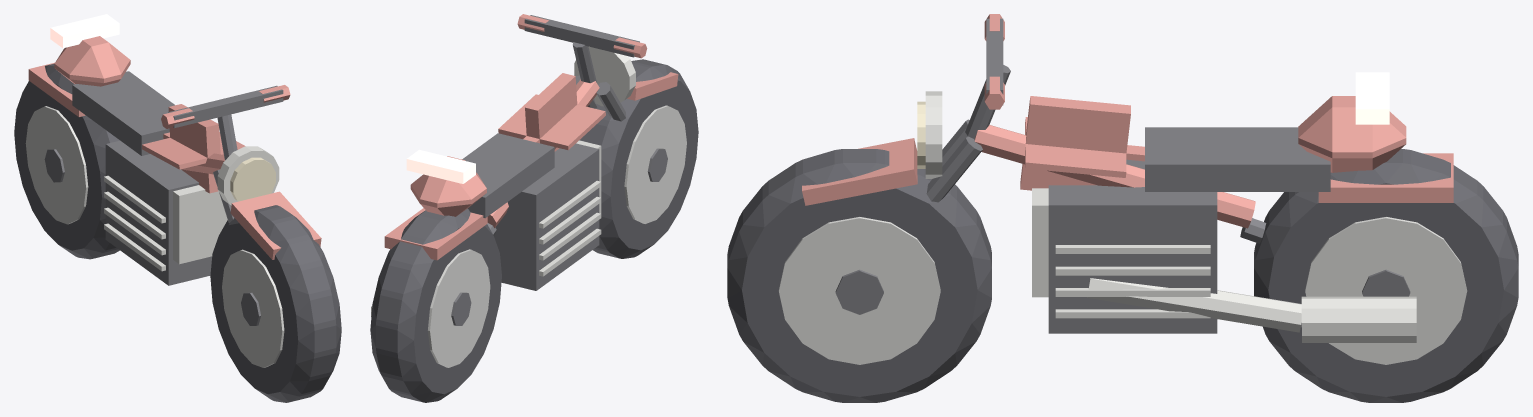
File: Vehicle_Moto_A.fbx
3 views of the same model, side by side, from view 1: azimuth 30°, elevation 25°; view 2: azimuth 150°, elevation 25°; view 3: azimuth 270°, elevation 25° (orthographic). The views are drawn at different scales.
Visible parts, largest first — view 1: Vehicle_Moto_A; view 2: Vehicle_Moto_A; view 3: Vehicle_Moto_A.
Part boxes in pixels (box(x1,y1,x2,y2)): Vehicle_Moto_A: box(14, 14, 341, 402); Vehicle_Moto_A: box(370, 14, 698, 402); Vehicle_Moto_A: box(727, 14, 1518, 402).
Size of the model in its own units: 0.56 by 1.12 by 2.34.
